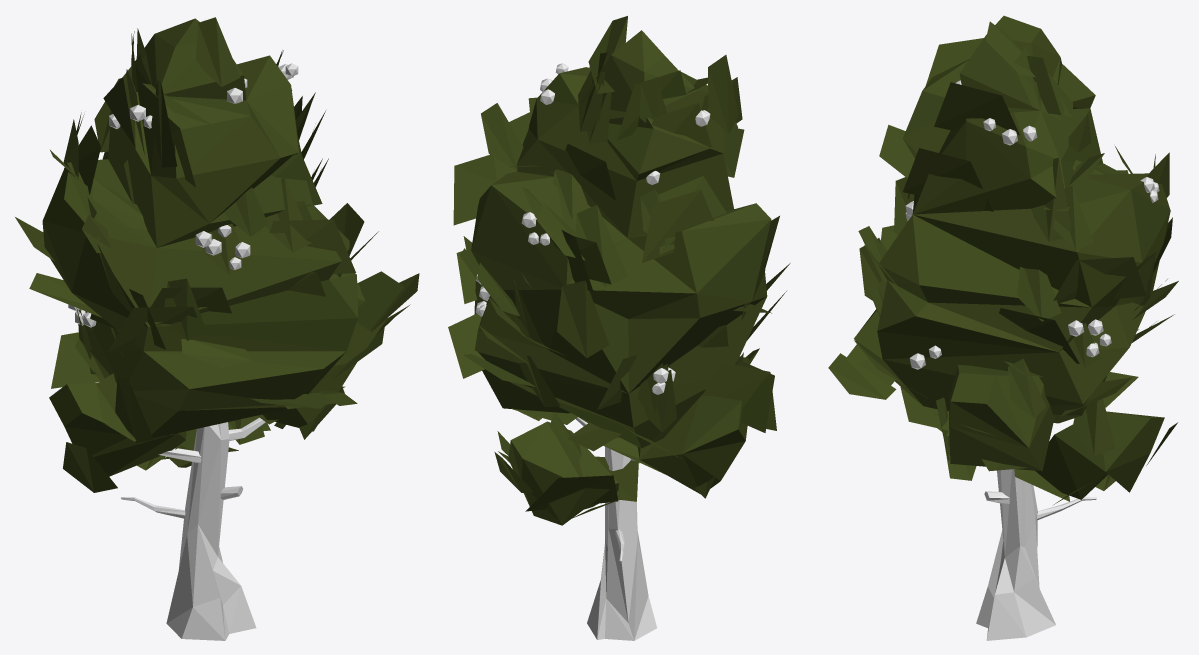
File: tree-juniper-sapling-a.gltf
The picture shows the model from 3 angles, left to right: view 1: azimuth 30°, elevation 25°; view 2: azimuth 150°, elevation 25°; view 3: azimuth 270°, elevation 25°; orthographic projection. The views are drawn at different scales.
Visible parts, largest first — view 1: tree-juniper-sapling-a; view 2: tree-juniper-sapling-a; view 3: tree-juniper-sapling-a.
Boxes of the visible parts, box(x1,y1,x2,y2) form: tree-juniper-sapling-a: box(15, 17, 419, 640); tree-juniper-sapling-a: box(448, 16, 790, 640); tree-juniper-sapling-a: box(828, 15, 1178, 640).
Bounding box in the file's own units: 0.0114 × 0.0186 × 0.0099.
